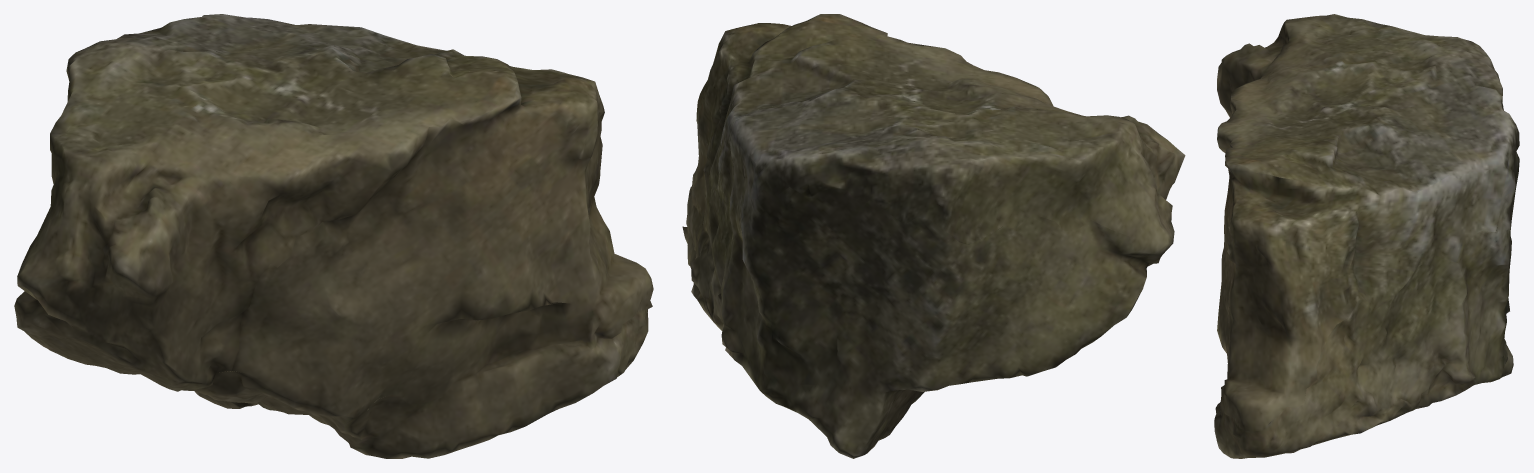
The model's file is moss_stone_13.glb.
The picture shows the model from 3 angles, left to right: view 1: azimuth 30°, elevation 25°; view 2: azimuth 150°, elevation 25°; view 3: azimuth 270°, elevation 25°; orthographic projection. The views are drawn at different scales.
Parts seen in each view (by area): view 1: moss_stone_13; view 2: moss_stone_13; view 3: moss_stone_13.
Boxes of the visible parts, x1=… form: moss_stone_13: x1=14, y1=14, x2=653, y2=458; moss_stone_13: x1=682, y1=14, x2=1185, y2=458; moss_stone_13: x1=1214, y1=14, x2=1519, y2=458.
Size of the model in its own units: 1 by 0.6008 by 0.5442.
Materials: 1 (1 with a texture image).
